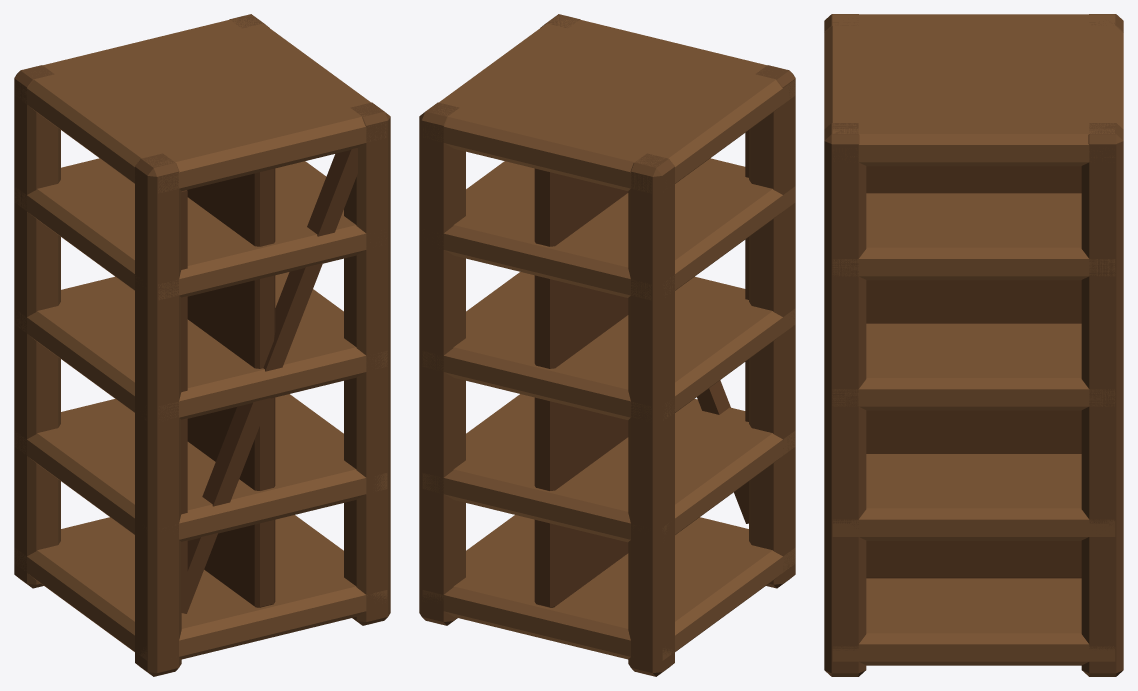
The model's file is storage_shelf.glb.
3 renders of one model, left to right at view 1: azimuth 30°, elevation 25°; view 2: azimuth 150°, elevation 25°; view 3: azimuth 270°, elevation 25°, orthographic. The views are drawn at different scales.
Parts seen in each view (by area): view 1: storage_shelf; view 2: storage_shelf; view 3: storage_shelf.
Boxes of the visible parts, x1=… form: storage_shelf: x1=14, y1=14, x2=390, y2=676; storage_shelf: x1=419, y1=14, x2=795, y2=676; storage_shelf: x1=824, y1=14, x2=1123, y2=676.
Bounding box in the file's own units: 1 × 2 × 1.
